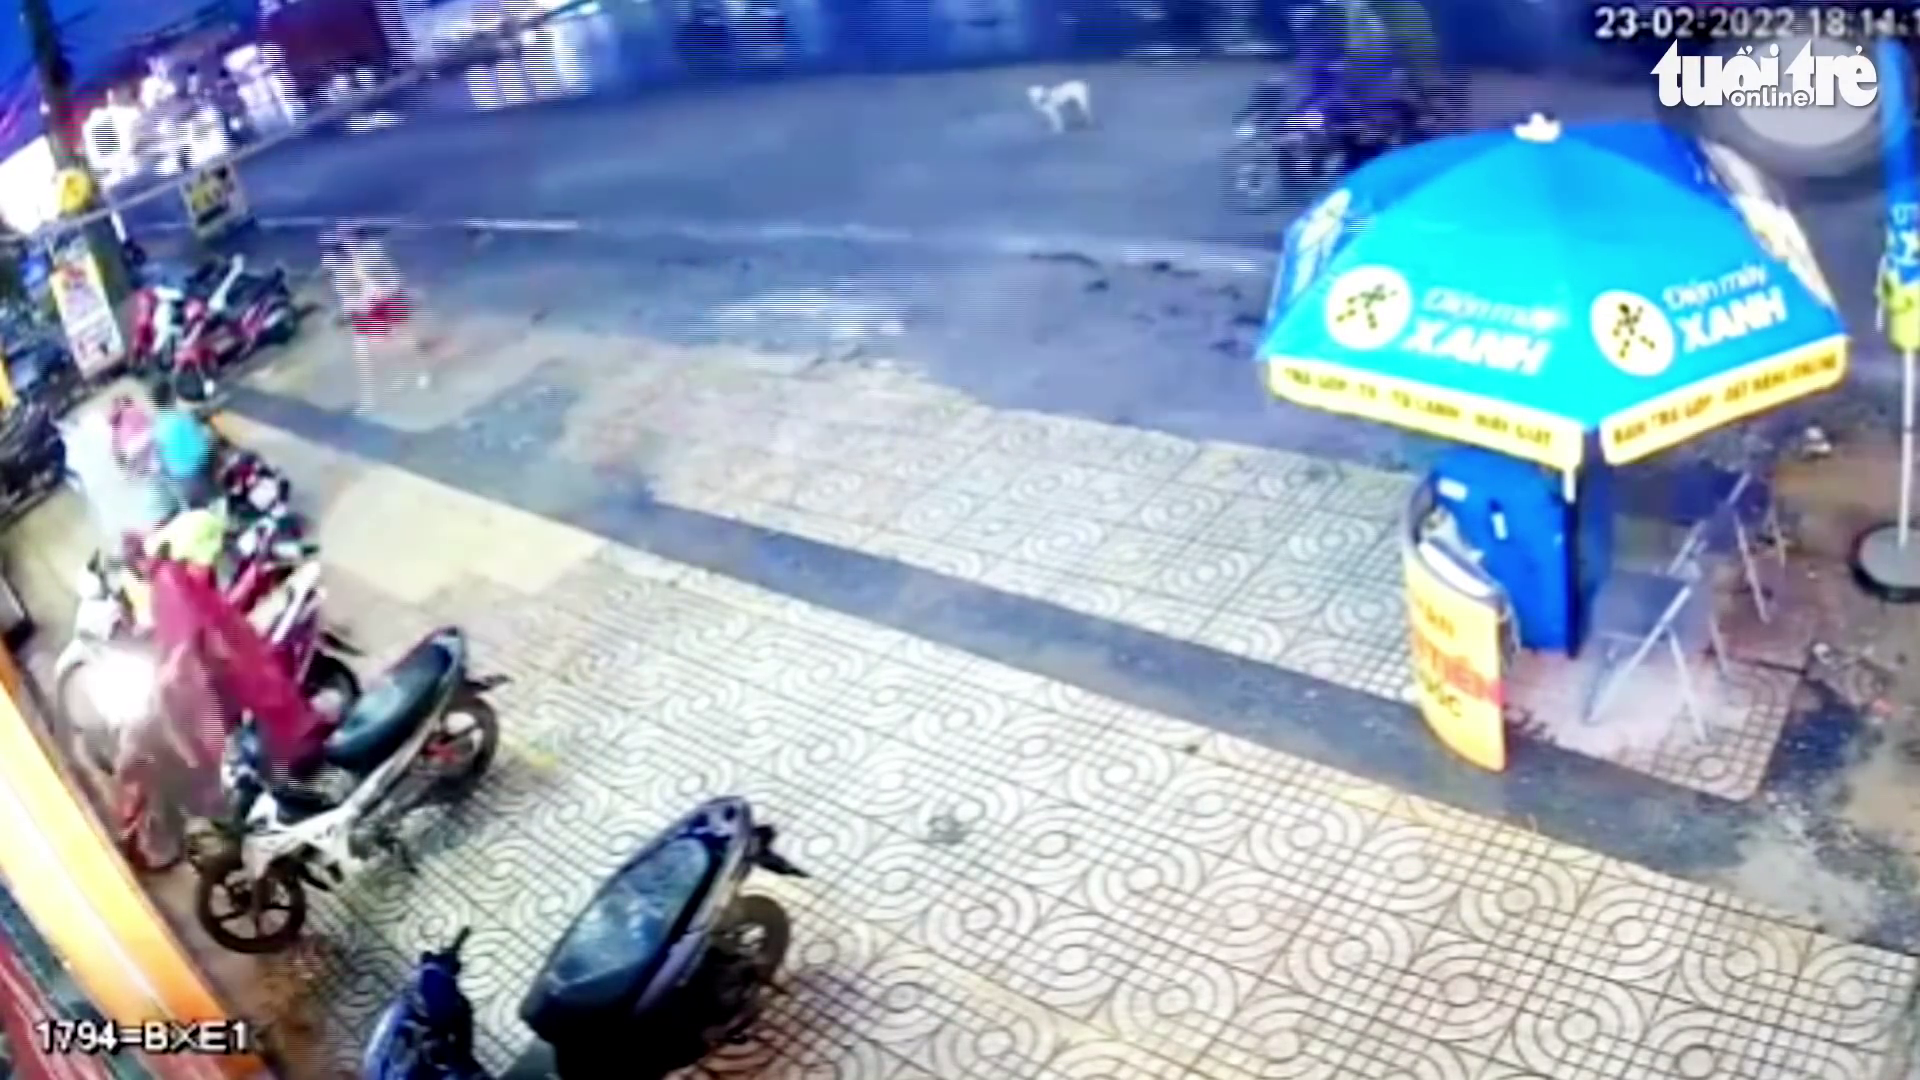Motorcycle: (1, 371, 506, 952), (360, 795, 804, 1076), (508, 794, 804, 1072), (162, 253, 313, 405)
